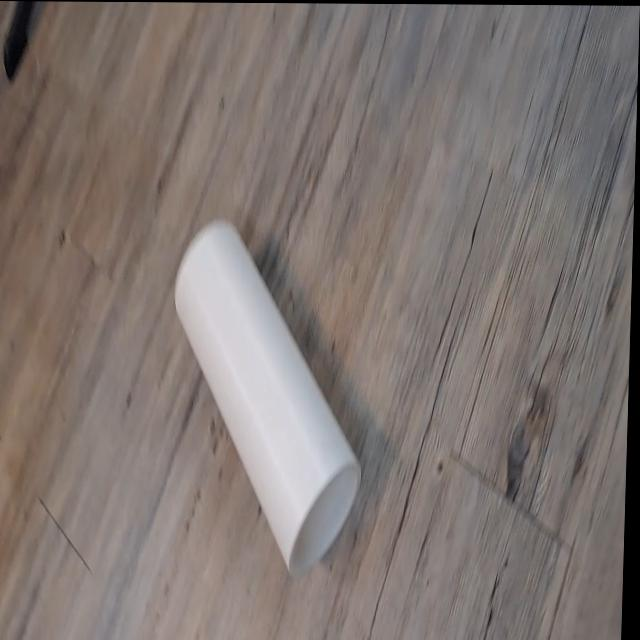CORAL: (128, 180, 397, 601)
